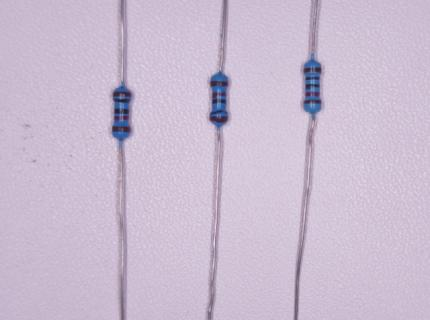Black band: (306, 84, 320, 90), (114, 109, 129, 114), (113, 99, 131, 103), (210, 110, 227, 114), (212, 99, 226, 103), (306, 77, 320, 80)
Brown band: (210, 116, 228, 123), (113, 126, 131, 132), (304, 67, 322, 73), (113, 92, 131, 97), (211, 81, 228, 86), (305, 100, 321, 104)
Red band: (212, 92, 226, 98), (306, 92, 320, 96), (115, 116, 128, 120)
